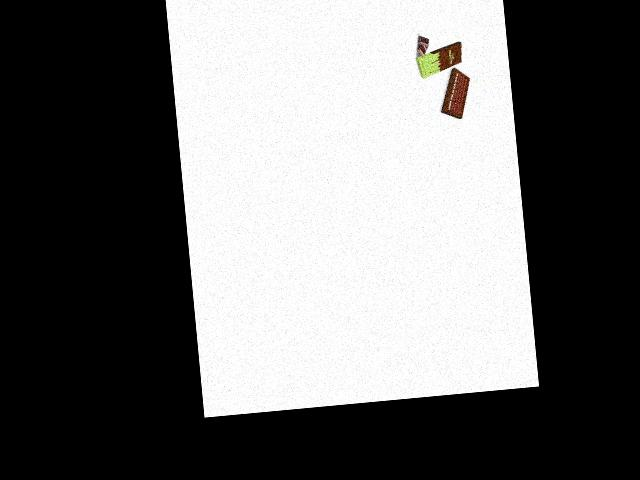chocolate: (413, 44, 464, 76)
